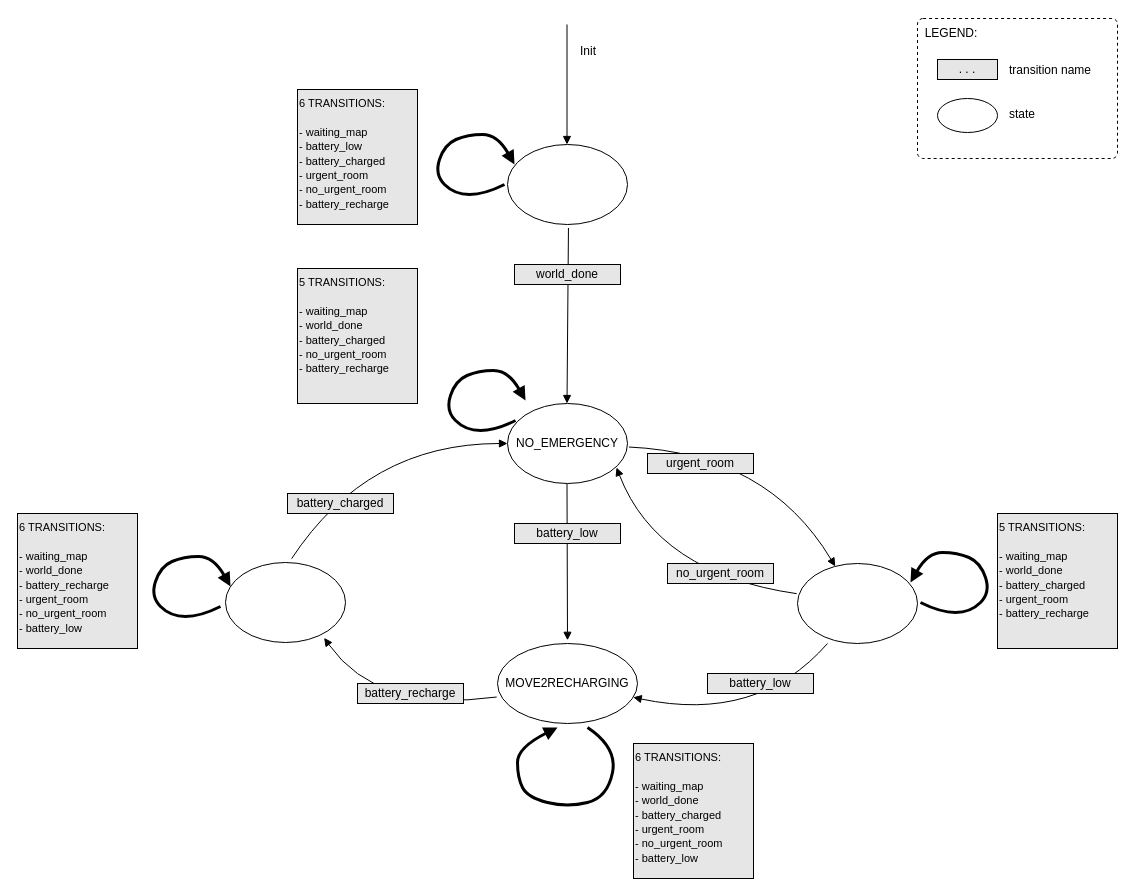
This 1135x896 diagram has some shape labels left out. Here are the shapes that lost their labels. From the top down, the centre of each, then its label:
At (x=567, y=184): "BUILD_WORLD".
At (x=285, y=602): "RECHARGING".
At (x=857, y=603): "SURVEILLANCE".
